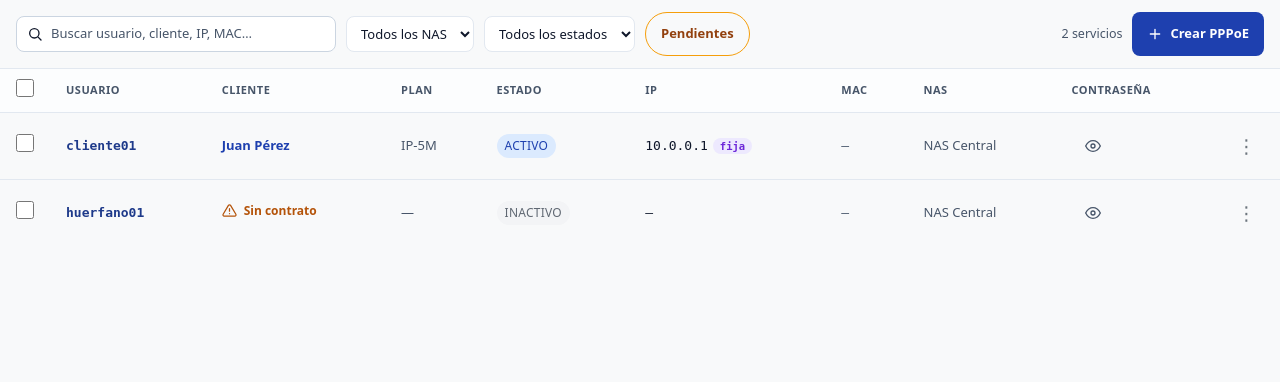
Test: PppoeManagementTab — F2: error feedback en mutaciones › muestra feedback visible cuando handleDeactivate falla (kebab)
The width and height of the screenshot is (1280, 382).
Click the button named "Acciones" at (1246, 146), box [1229, 132, 1264, 159]
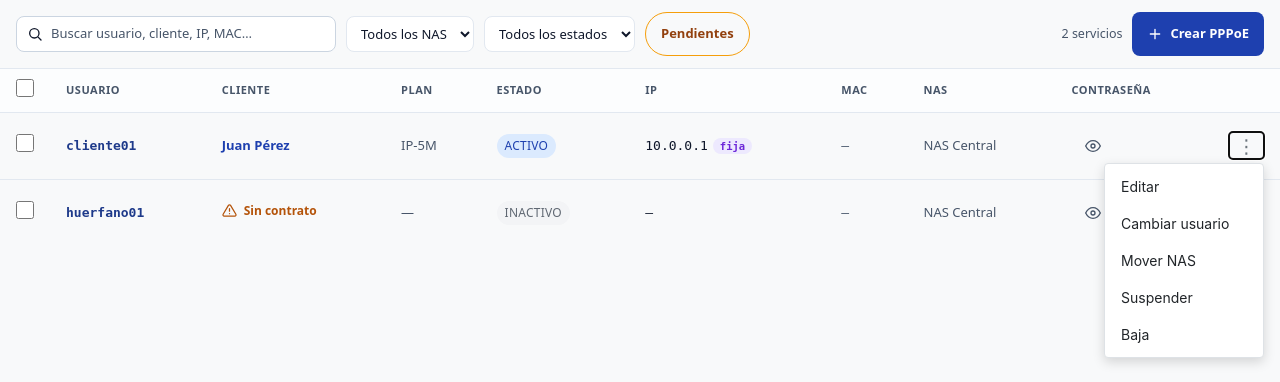
Click the menu item "Baja" at (1184, 335), box [1105, 316, 1263, 353]
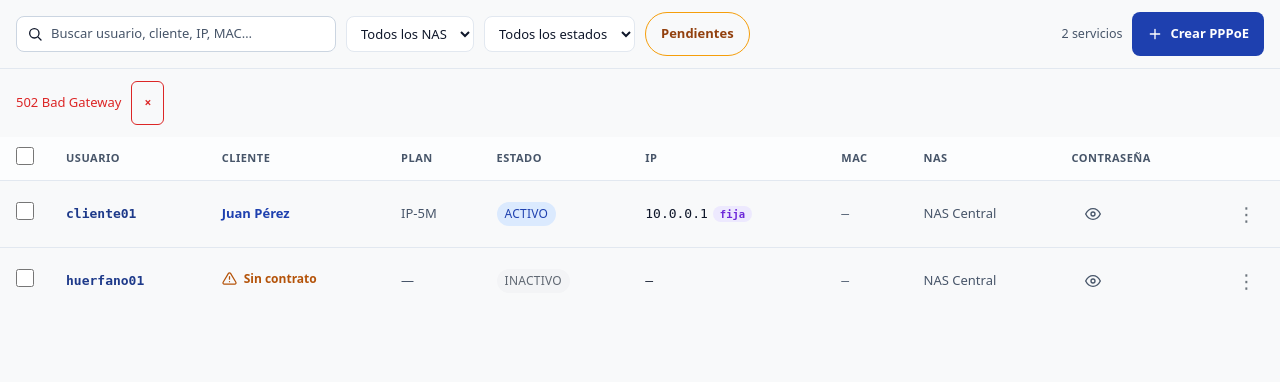
Result: the message "502 Bad Gateway ×" is shown at [16, 81, 164, 125]
